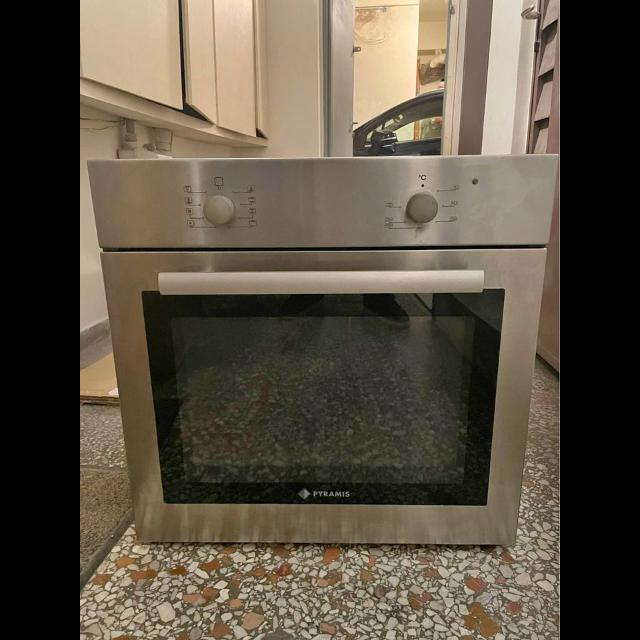Oven: (88, 160, 542, 548)
